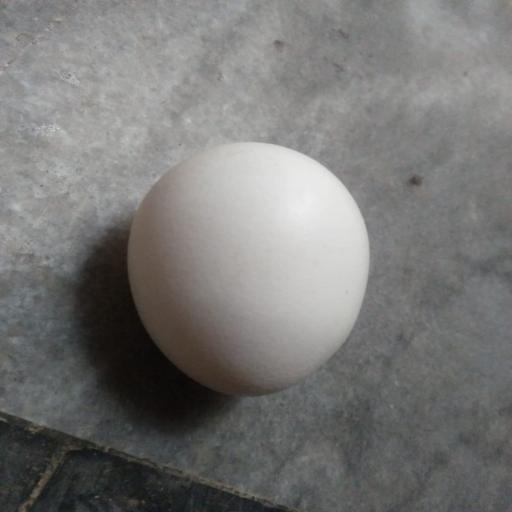telur: (127, 142, 369, 396)
